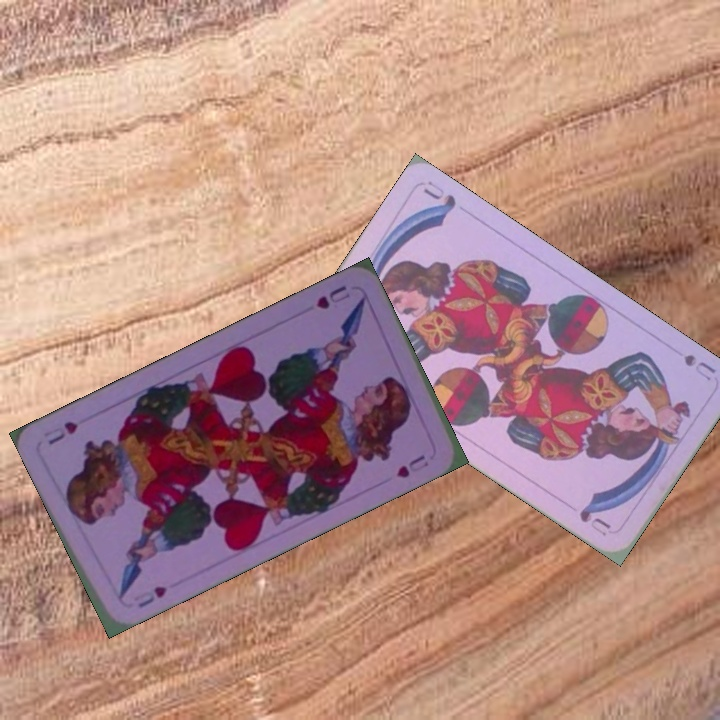HU: (117, 582, 170, 611), (312, 281, 353, 312)
SU: (679, 350, 719, 383)
